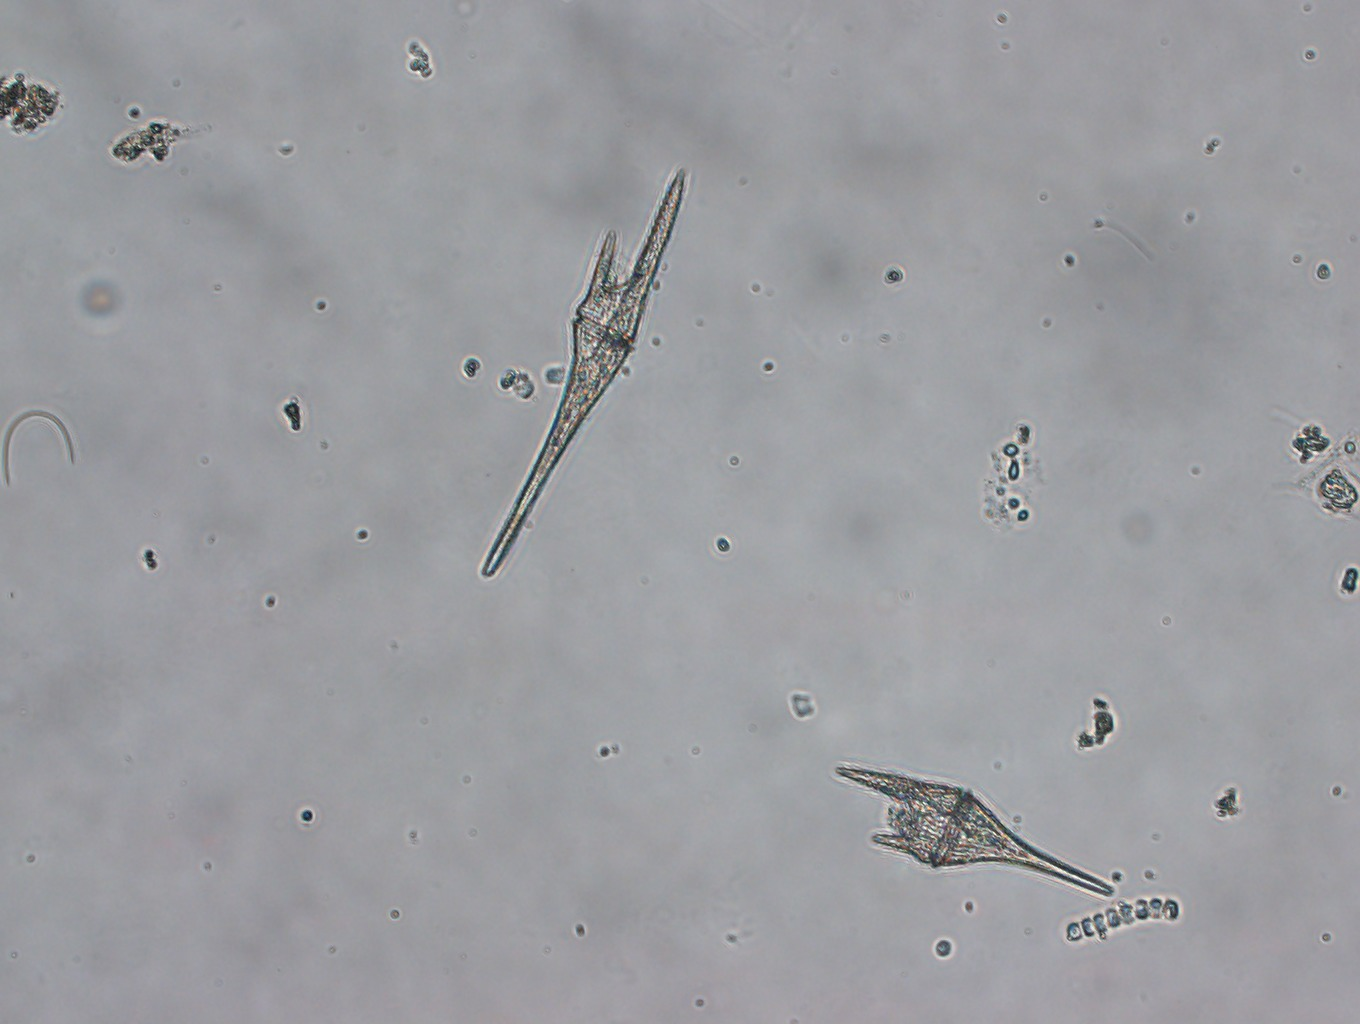ceratium furca: (479, 163, 689, 585), (833, 762, 1120, 894)
skeletonema: (1064, 895, 1183, 947)
